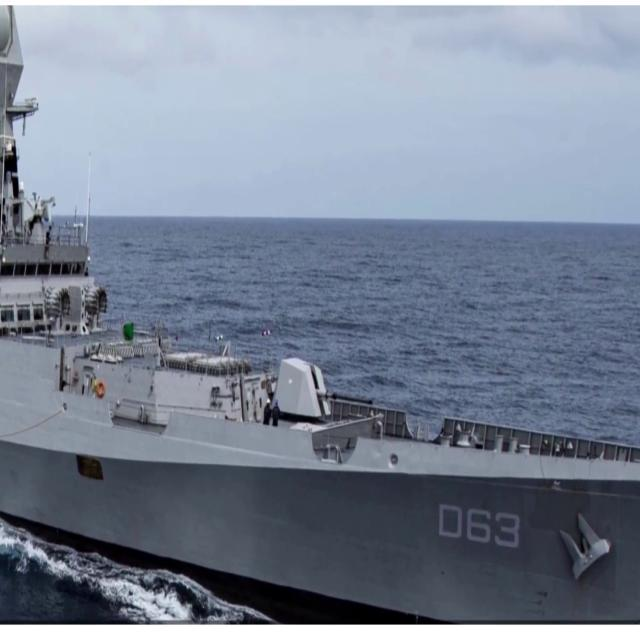OCR: (435, 497, 524, 555)
